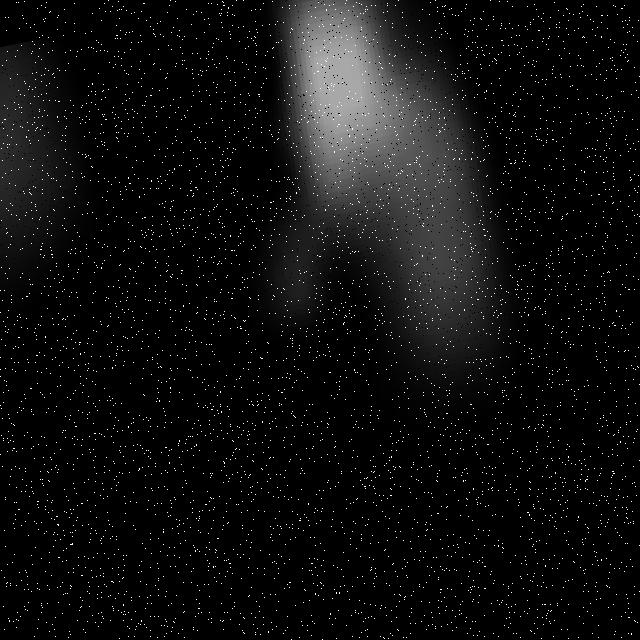person: (210, 1, 536, 435), (1, 27, 150, 382)
